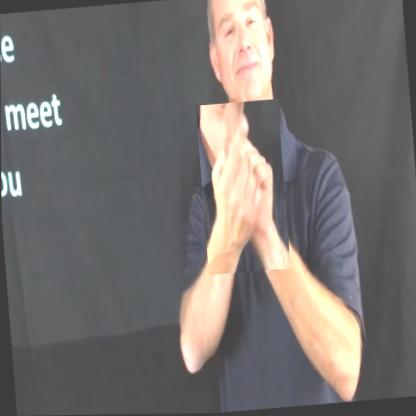NiceToMeetYou: (196, 100, 290, 276)
